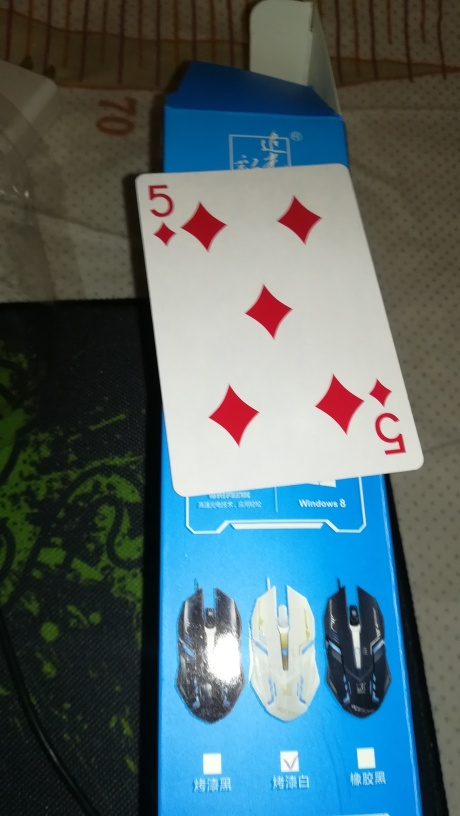fk 5: (131, 164, 428, 499)
